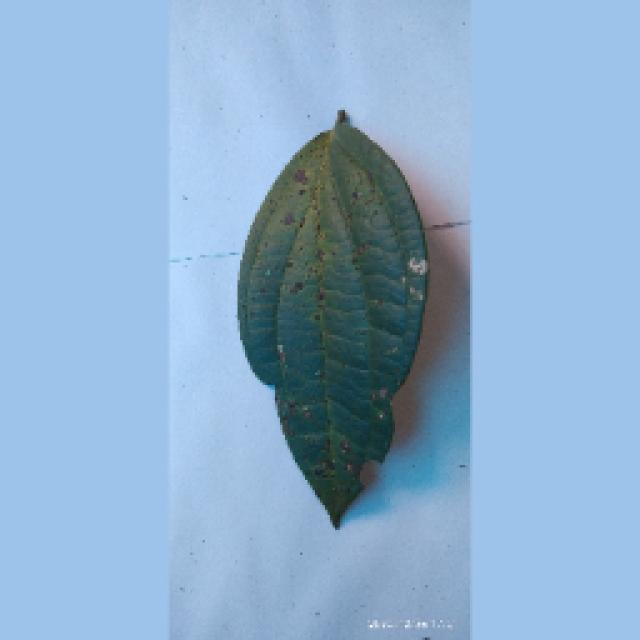slow-decline: (230, 110, 430, 528)
